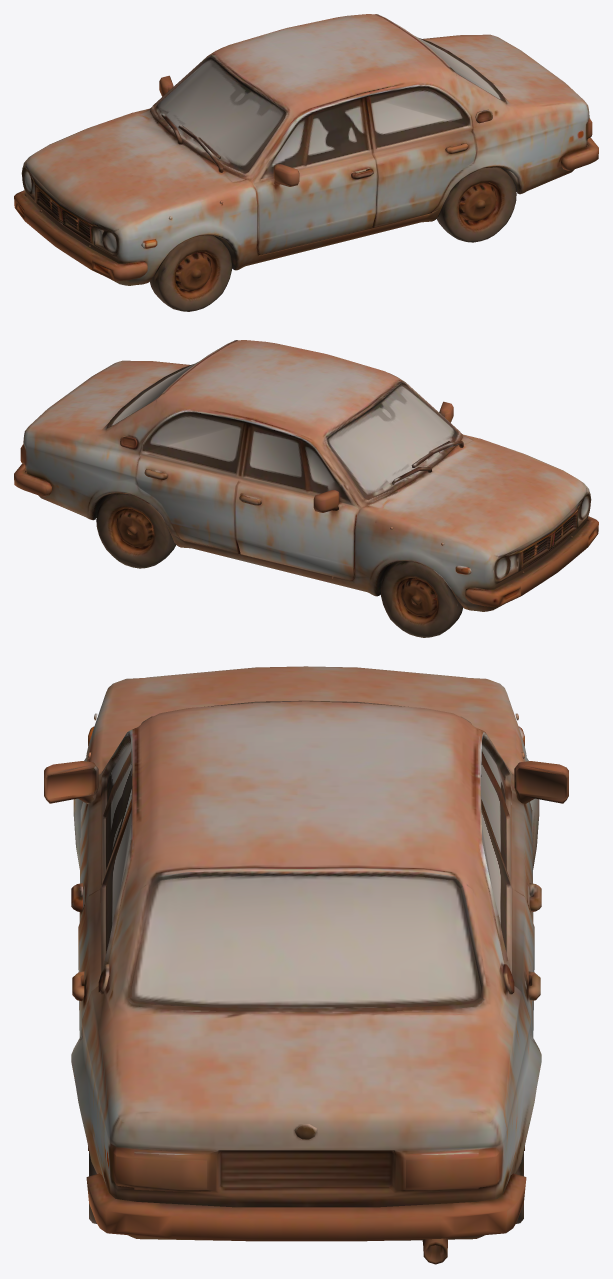
The model's file is rusty_car_a9d09db5_v3.glb.
The picture shows the model from 3 angles, top to bottom: view 1: azimuth 30°, elevation 25°; view 2: azimuth 150°, elevation 25°; view 3: azimuth 270°, elevation 25°; orthographic projection. The views are drawn at different scales.
Parts seen in each view (by area): view 1: material; view 2: material; view 3: material.
Boxes of the visible parts, x1,y1,x2,y2 form: material: [14, 14, 598, 311]; material: [14, 340, 598, 637]; material: [44, 666, 568, 1264].
Bounding box in the file's own units: 1.9 × 0.6366 × 0.8611.
1 material, 1 textured.
